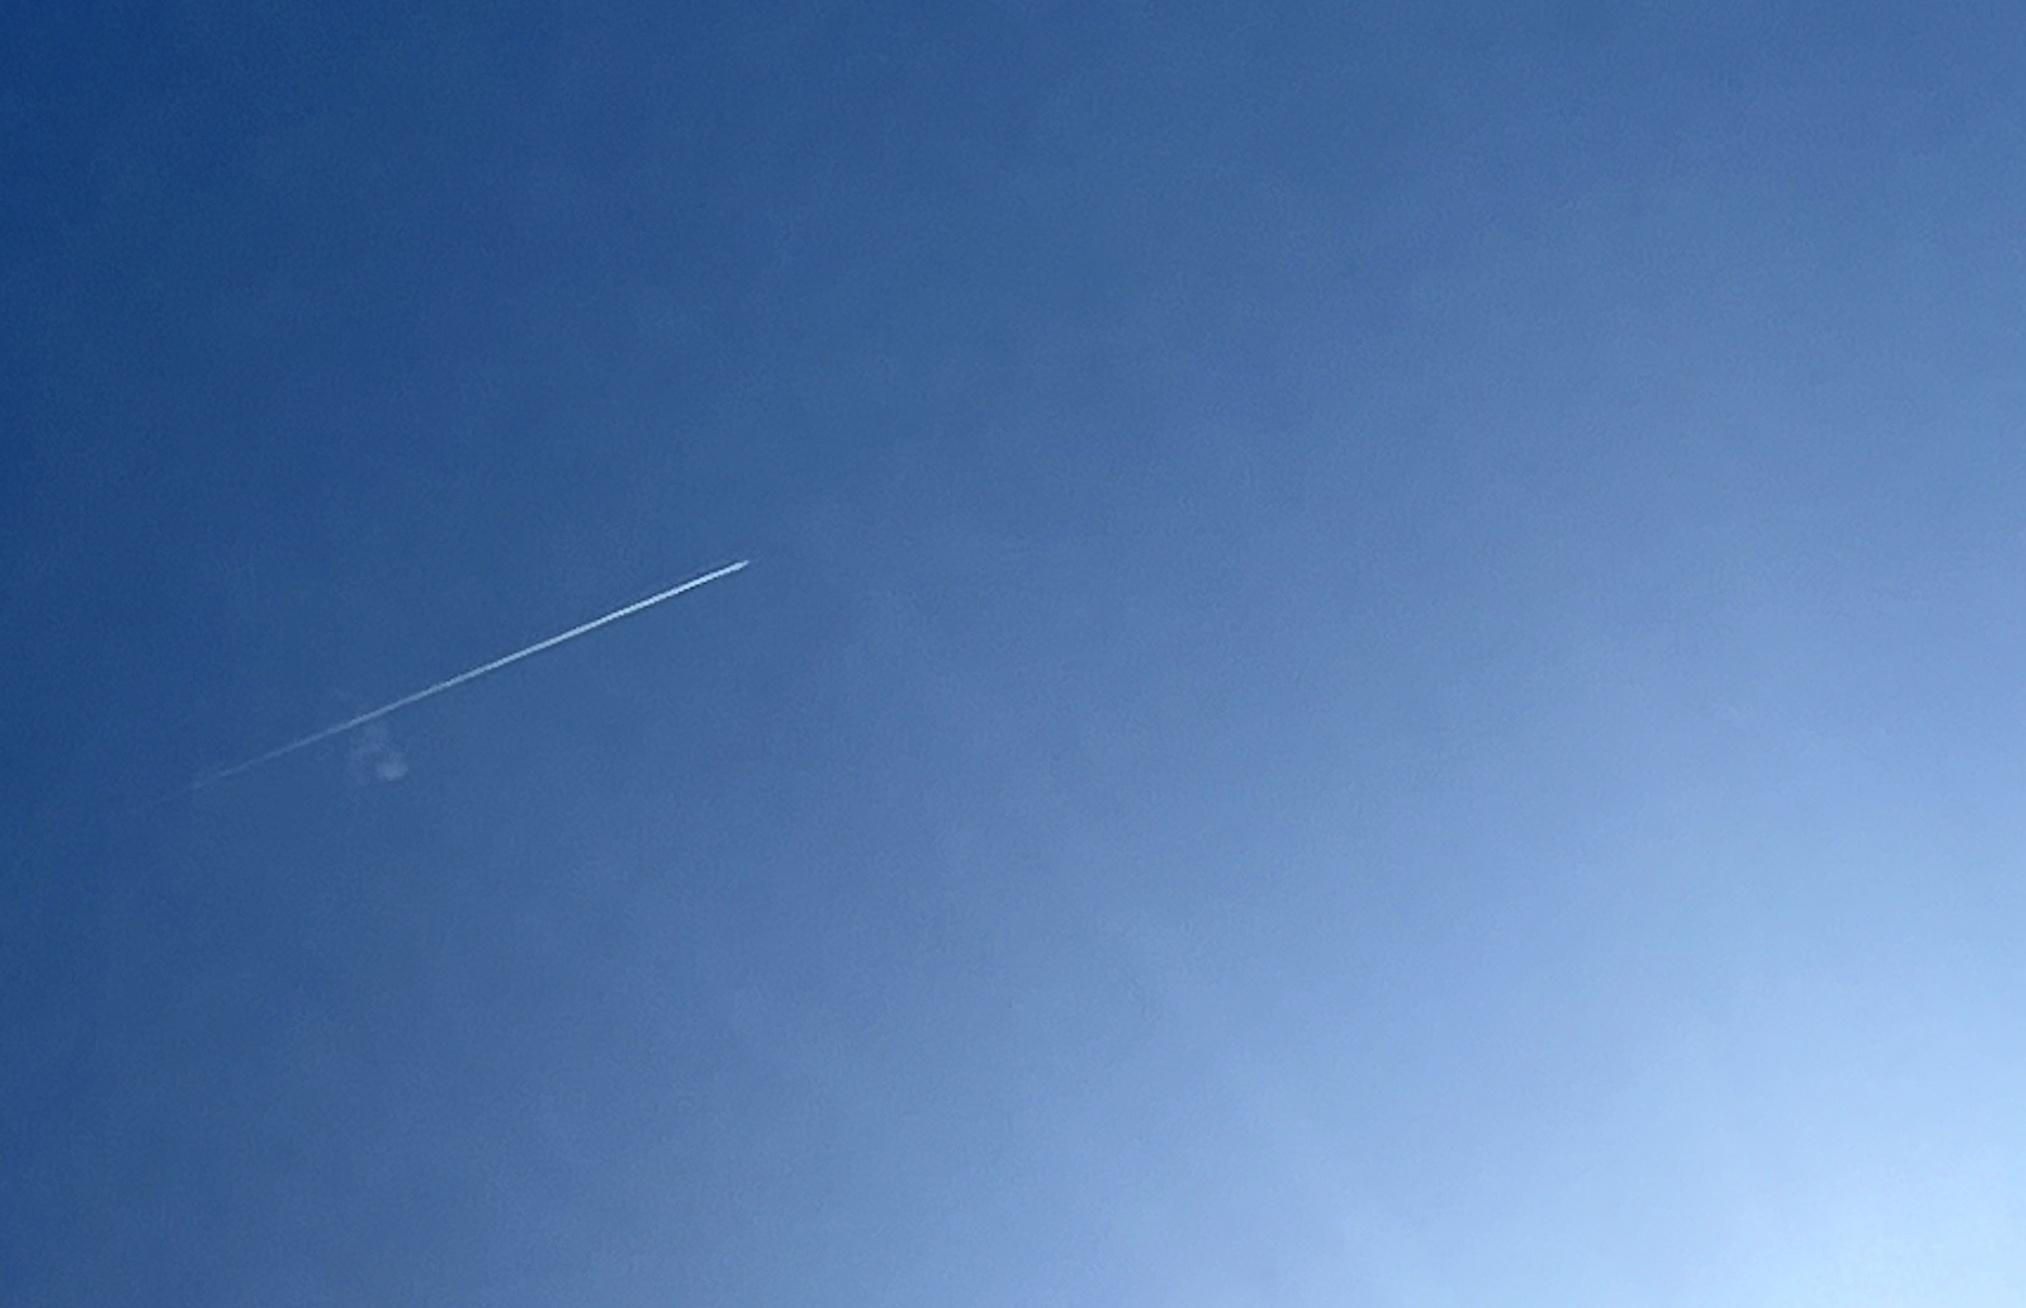Plane: (424, 543, 771, 712)
